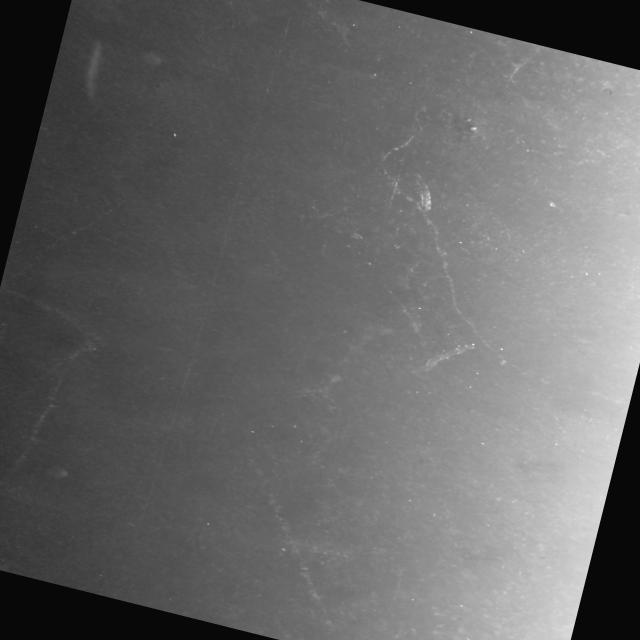beta: (331, 95, 565, 368), (202, 446, 387, 640), (0, 177, 131, 351), (0, 326, 98, 506), (0, 278, 105, 349), (504, 38, 552, 92)
